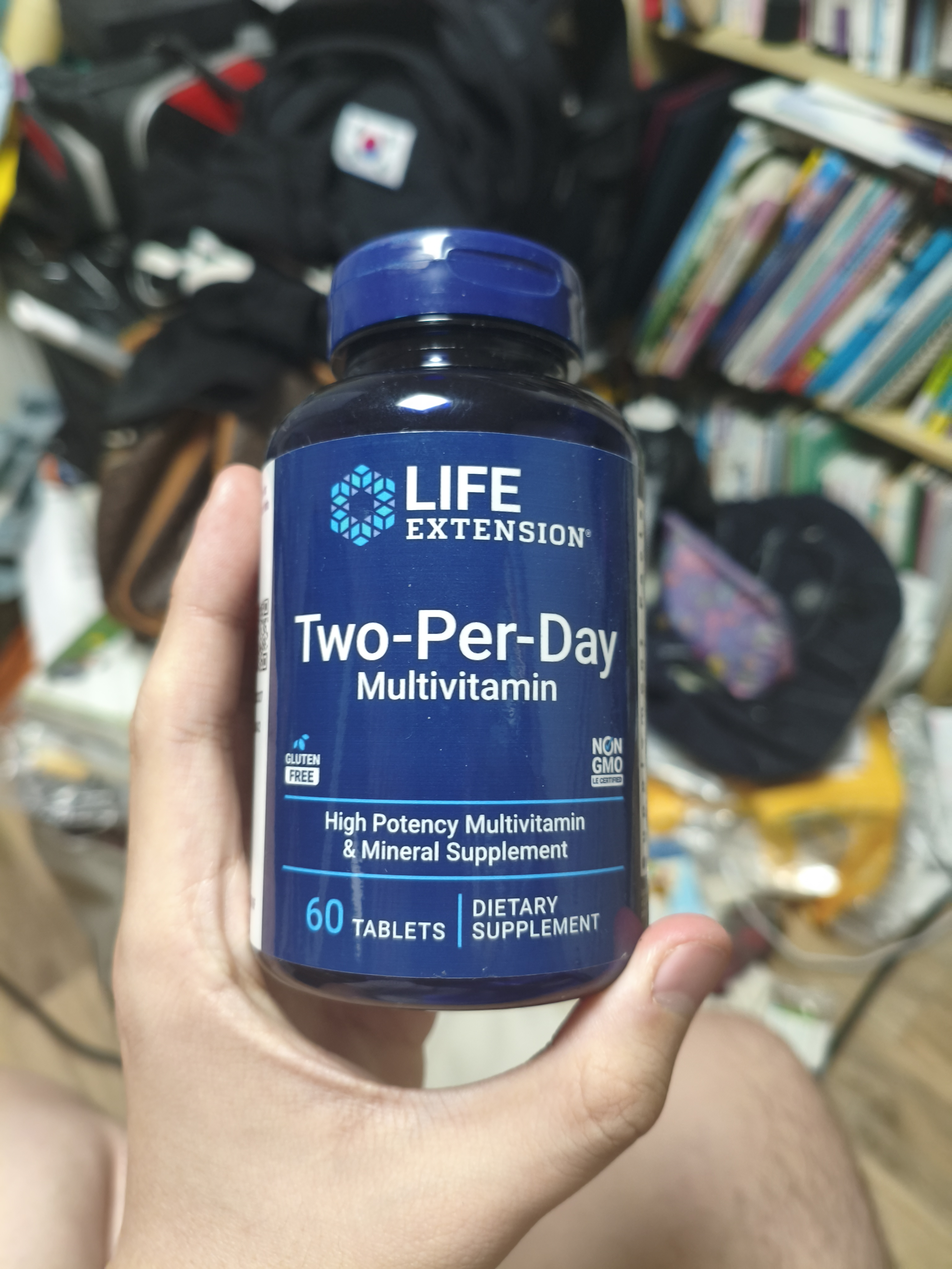supplement_label: (236, 423, 664, 986)
